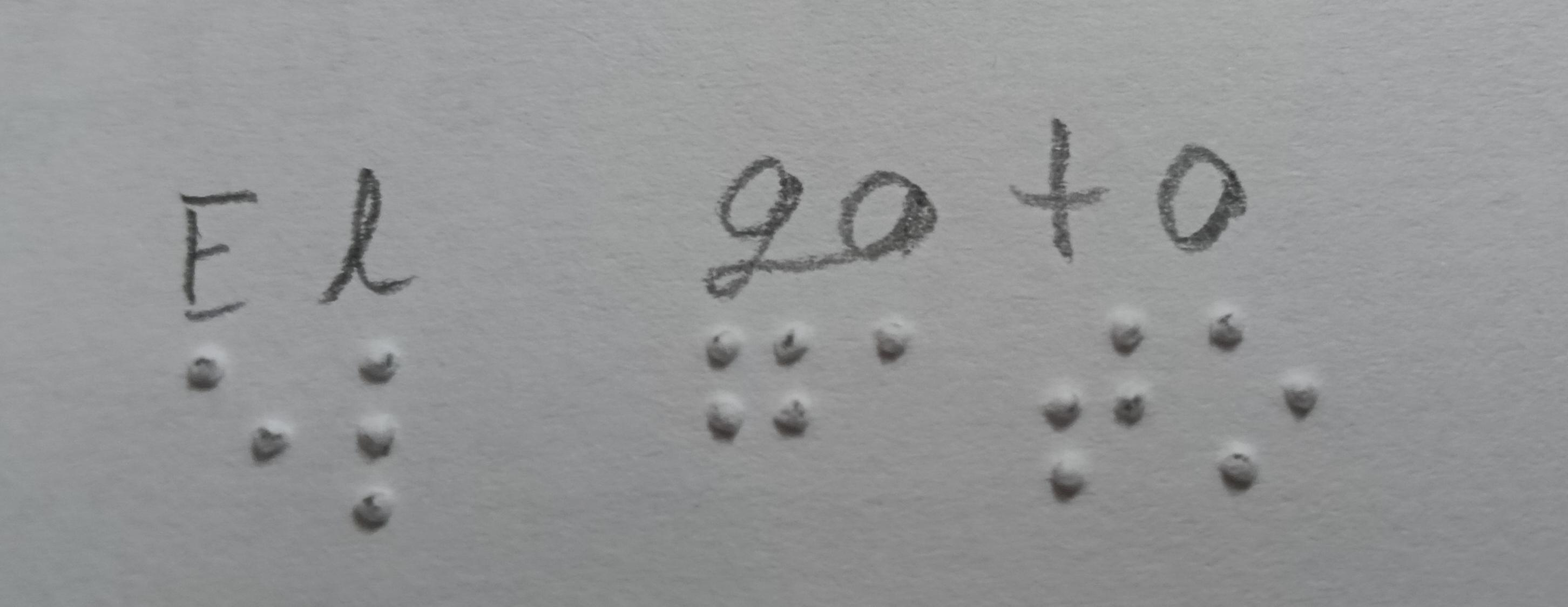a: (844, 304, 941, 390)
e: (173, 331, 301, 478)
g: (653, 314, 830, 455)
l: (322, 329, 428, 535)
o: (1195, 300, 1335, 507)
t: (1013, 289, 1164, 507)
